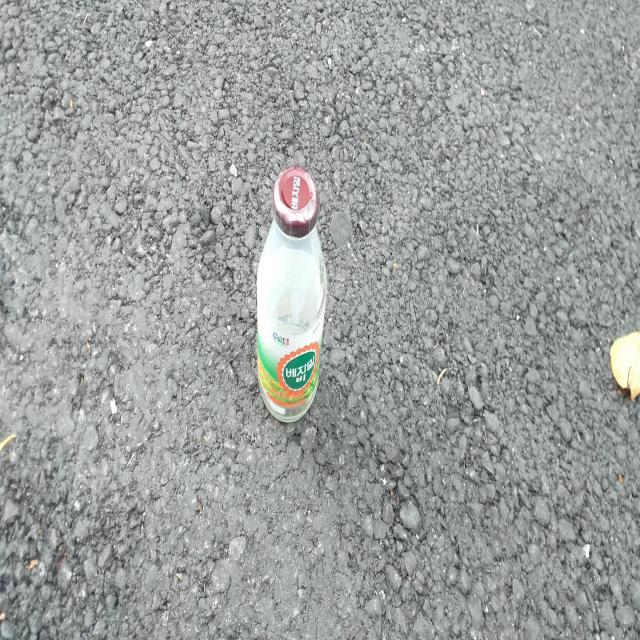glass: (257, 165, 327, 422)
